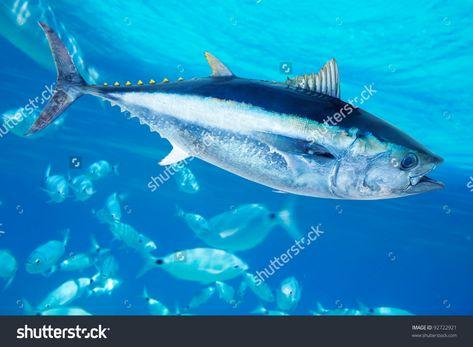fish: (22, 20, 445, 200), (196, 194, 303, 252), (137, 248, 248, 280), (39, 272, 102, 309), (25, 231, 71, 278), (0, 107, 65, 139), (173, 204, 213, 239), (39, 163, 70, 204), (355, 297, 420, 316), (168, 157, 199, 196), (276, 273, 302, 312), (177, 286, 213, 314), (0, 246, 21, 289), (247, 271, 274, 304), (94, 194, 122, 225), (213, 281, 242, 310), (70, 171, 94, 205), (141, 287, 171, 314), (82, 159, 122, 179), (59, 253, 96, 271), (129, 232, 157, 253), (109, 222, 137, 242), (88, 234, 109, 257)
